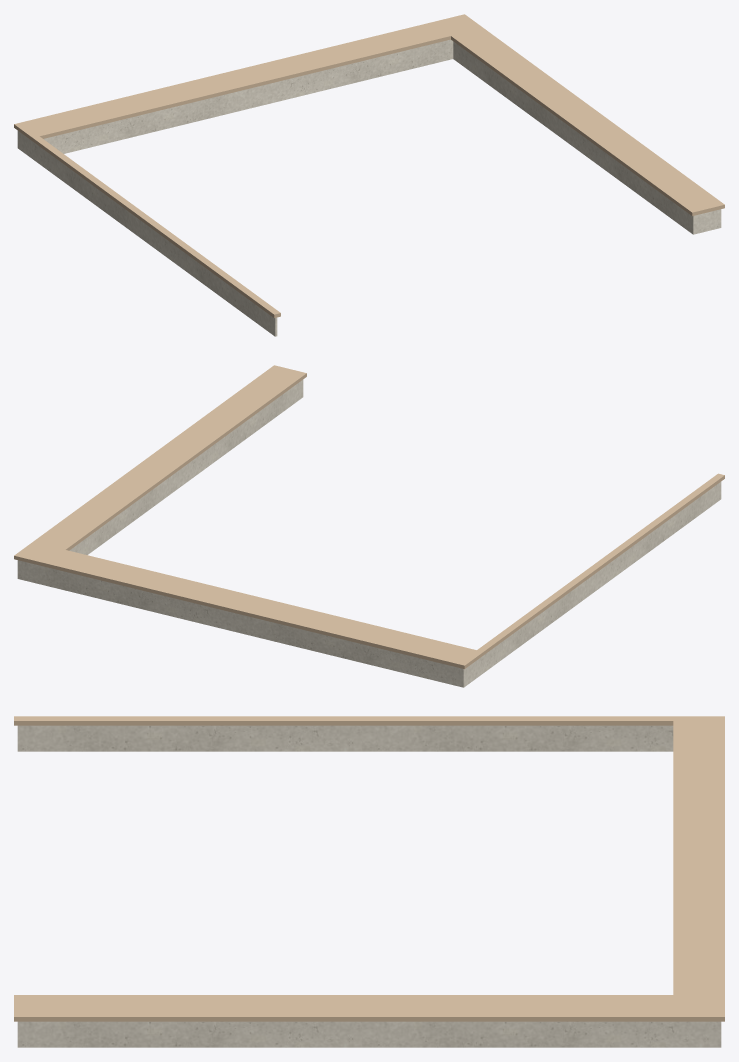
Rendered from stair_core_slab_192_168_29.glb.
The picture shows the model from 3 angles, top to bottom: view 1: azimuth 30°, elevation 25°; view 2: azimuth 150°, elevation 25°; view 3: azimuth 270°, elevation 25°; orthographic projection. The views are drawn at different scales.
Visible parts, largest first — view 1: stair_core_slab_192_168_29_floor, stair_core_slab_192_168_29_plaster; view 2: stair_core_slab_192_168_29_floor, stair_core_slab_192_168_29_plaster; view 3: stair_core_slab_192_168_29_floor, stair_core_slab_192_168_29_plaster.
Part boxes in pixels (x1,y1,x2,y2): stair_core_slab_192_168_29_floor: (14, 14, 724, 318); stair_core_slab_192_168_29_plaster: (17, 39, 721, 336); stair_core_slab_192_168_29_floor: (14, 365, 724, 669); stair_core_slab_192_168_29_plaster: (17, 379, 721, 687); stair_core_slab_192_168_29_floor: (14, 716, 724, 1021); stair_core_slab_192_168_29_plaster: (17, 725, 721, 1047).
Bounding box in the file's own units: 4 × 0.2 × 4.
Materials: 2 (1 with a texture image).
